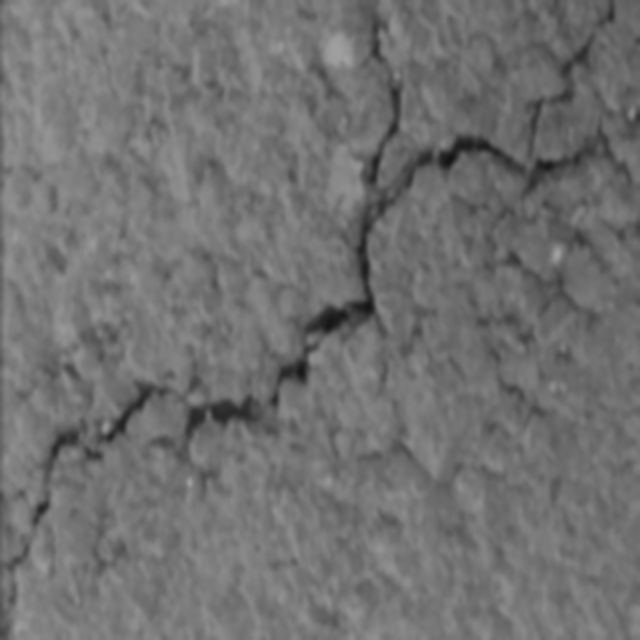SurfaceCrack: (1, 5, 551, 640)
